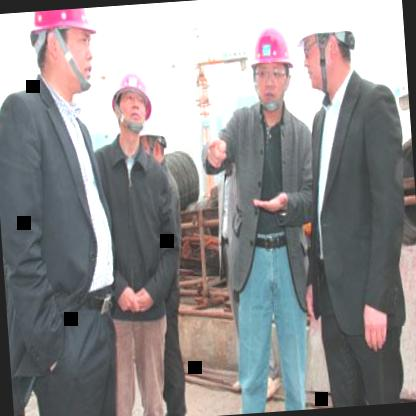helmet: (27, 7, 104, 100), (295, 0, 361, 94), (245, 17, 298, 110), (106, 68, 154, 136), (136, 113, 171, 166)
